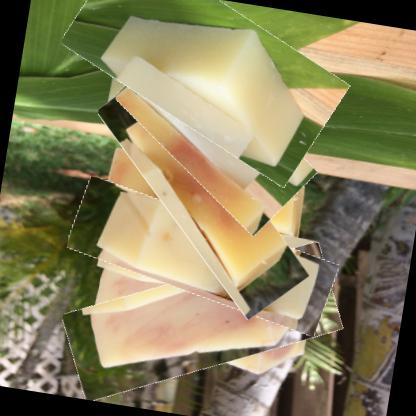soap: (56, 230, 348, 414), (68, 96, 338, 290), (53, 0, 355, 171), (61, 185, 342, 326), (103, 50, 327, 220)
